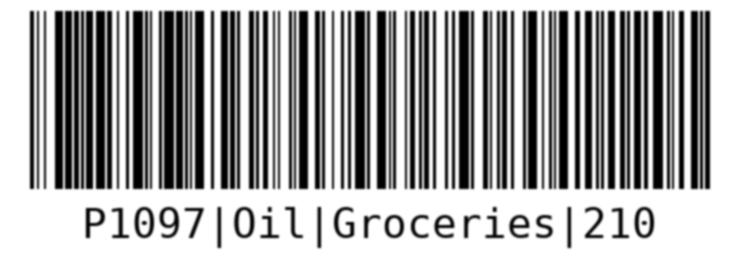milk: (24, 3, 715, 265)
